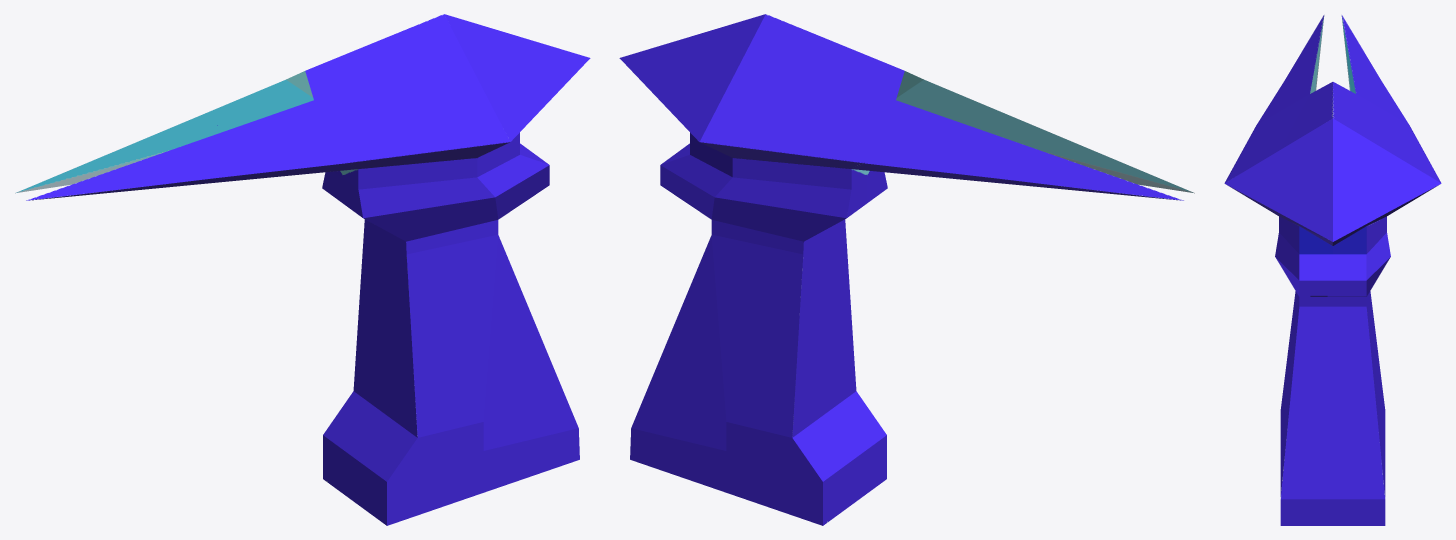
File: pistol.fbx
3 views of the same model, side by side, from view 1: azimuth 30°, elevation 25°; view 2: azimuth 150°, elevation 25°; view 3: azimuth 270°, elevation 25° (orthographic). The views are drawn at different scales.
Visible parts, largest first — view 1: Cone; view 2: Cone; view 3: Cone.
Part boxes in pixels (x1,y1,x2,y2): Cone: (15,14,590,525); Cone: (619,14,1194,525); Cone: (1224,15,1441,525).
Bounding box in the file's own units: 497 × 388 × 200.
1 material, 1 textured.
